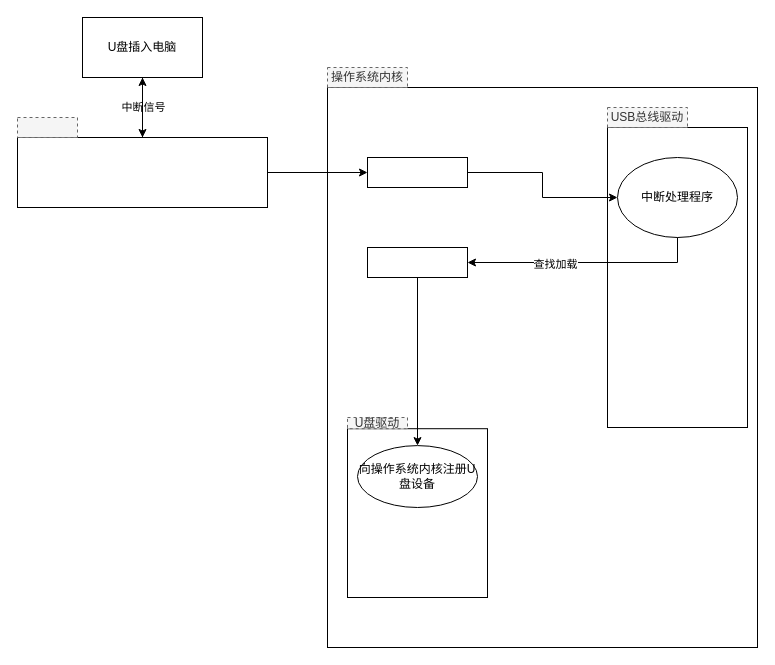
This 775x665 diagram has some shape labels left out. The shapes that lost their labels are listed below. From the top down, each one's box as (x1, y1, x2, y2) in pixels, then its label:
(16, 116, 78, 138): CPU
(366, 156, 468, 188): 中断向量表
(366, 246, 468, 278): 驱动程序数据库
